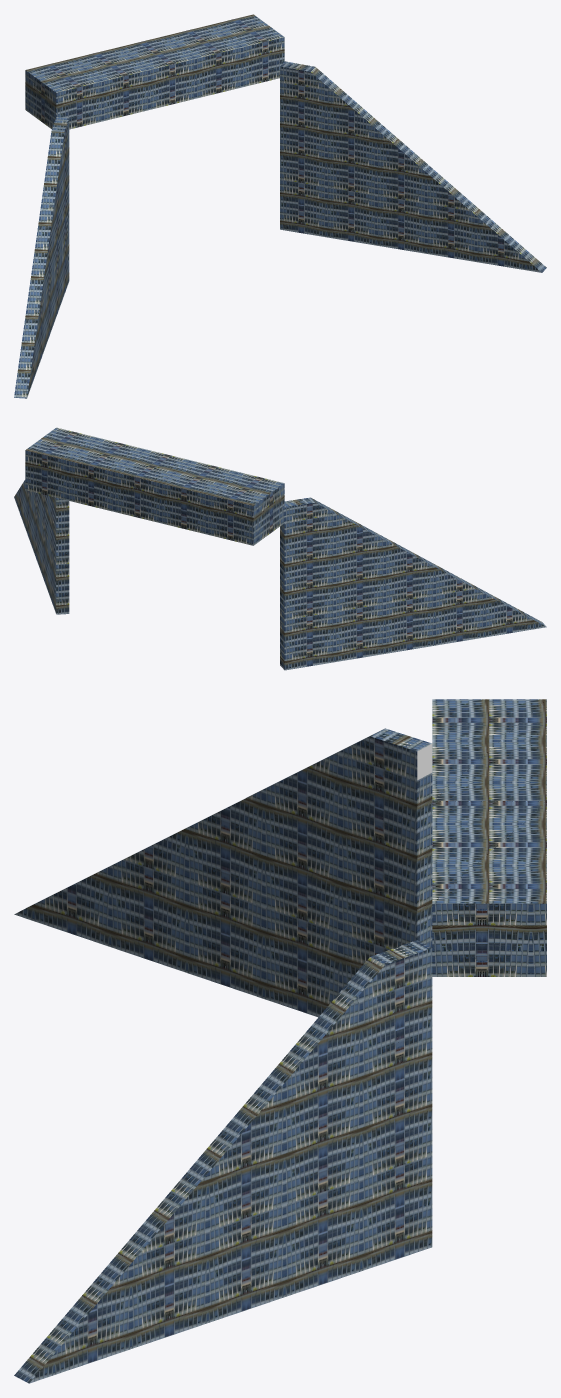
The model's file is Unterfuehrung_Fahrrad_lod34.dae.
The picture shows the model from 3 angles, top to bottom: view 1: azimuth 30°, elevation 25°; view 2: azimuth 150°, elevation 25°; view 3: azimuth 270°, elevation 25°; orthographic projection. The views are drawn at different scales.
Parts seen in each view (by area): view 1: SketchUp; view 2: SketchUp; view 3: SketchUp.
Part boxes in pixels (x1=…): SketchUp: x1=14, y1=14, x2=546, y2=398; SketchUp: x1=14, y1=427, x2=546, y2=670; SketchUp: x1=14, y1=699, x2=546, y2=1383.
Bounding box in the file's own units: 551 × 260 × 185.
